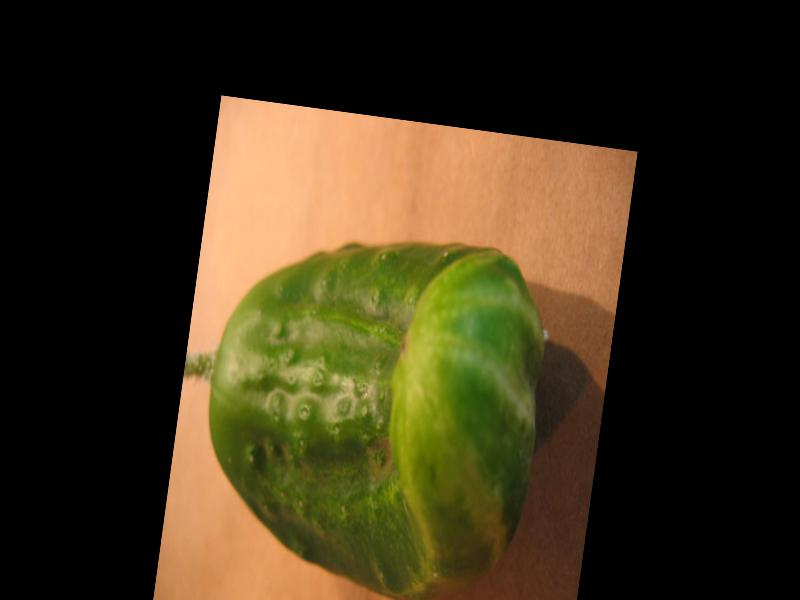Cucumber: (185, 209, 559, 600)
